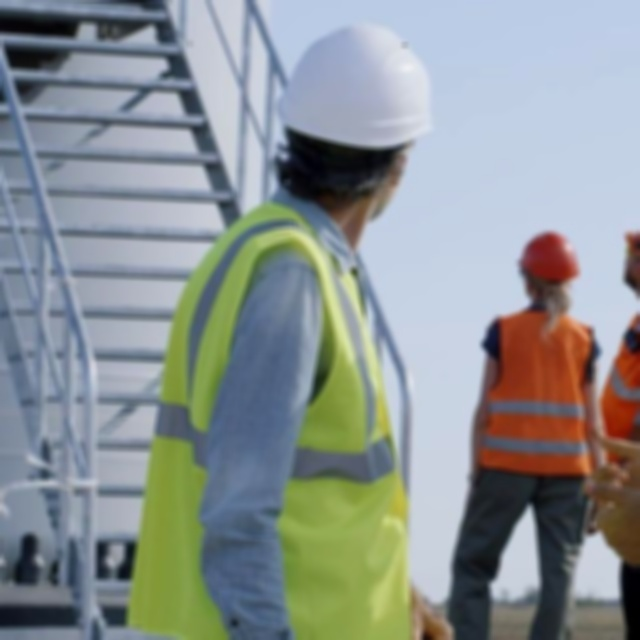Con_Casco: (277, 21, 434, 223), (515, 228, 585, 309)
Con_Chaleco: (151, 217, 415, 640), (489, 310, 596, 479)
